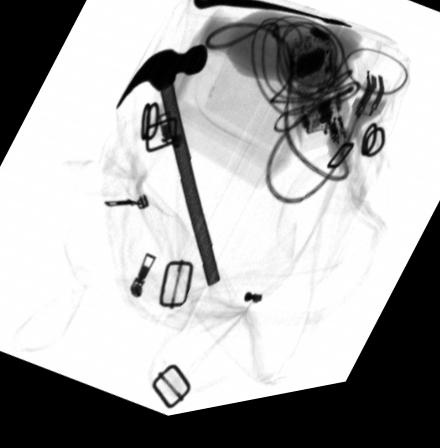Hammer: (115, 51, 218, 294)
Wrench: (192, 0, 352, 41)
